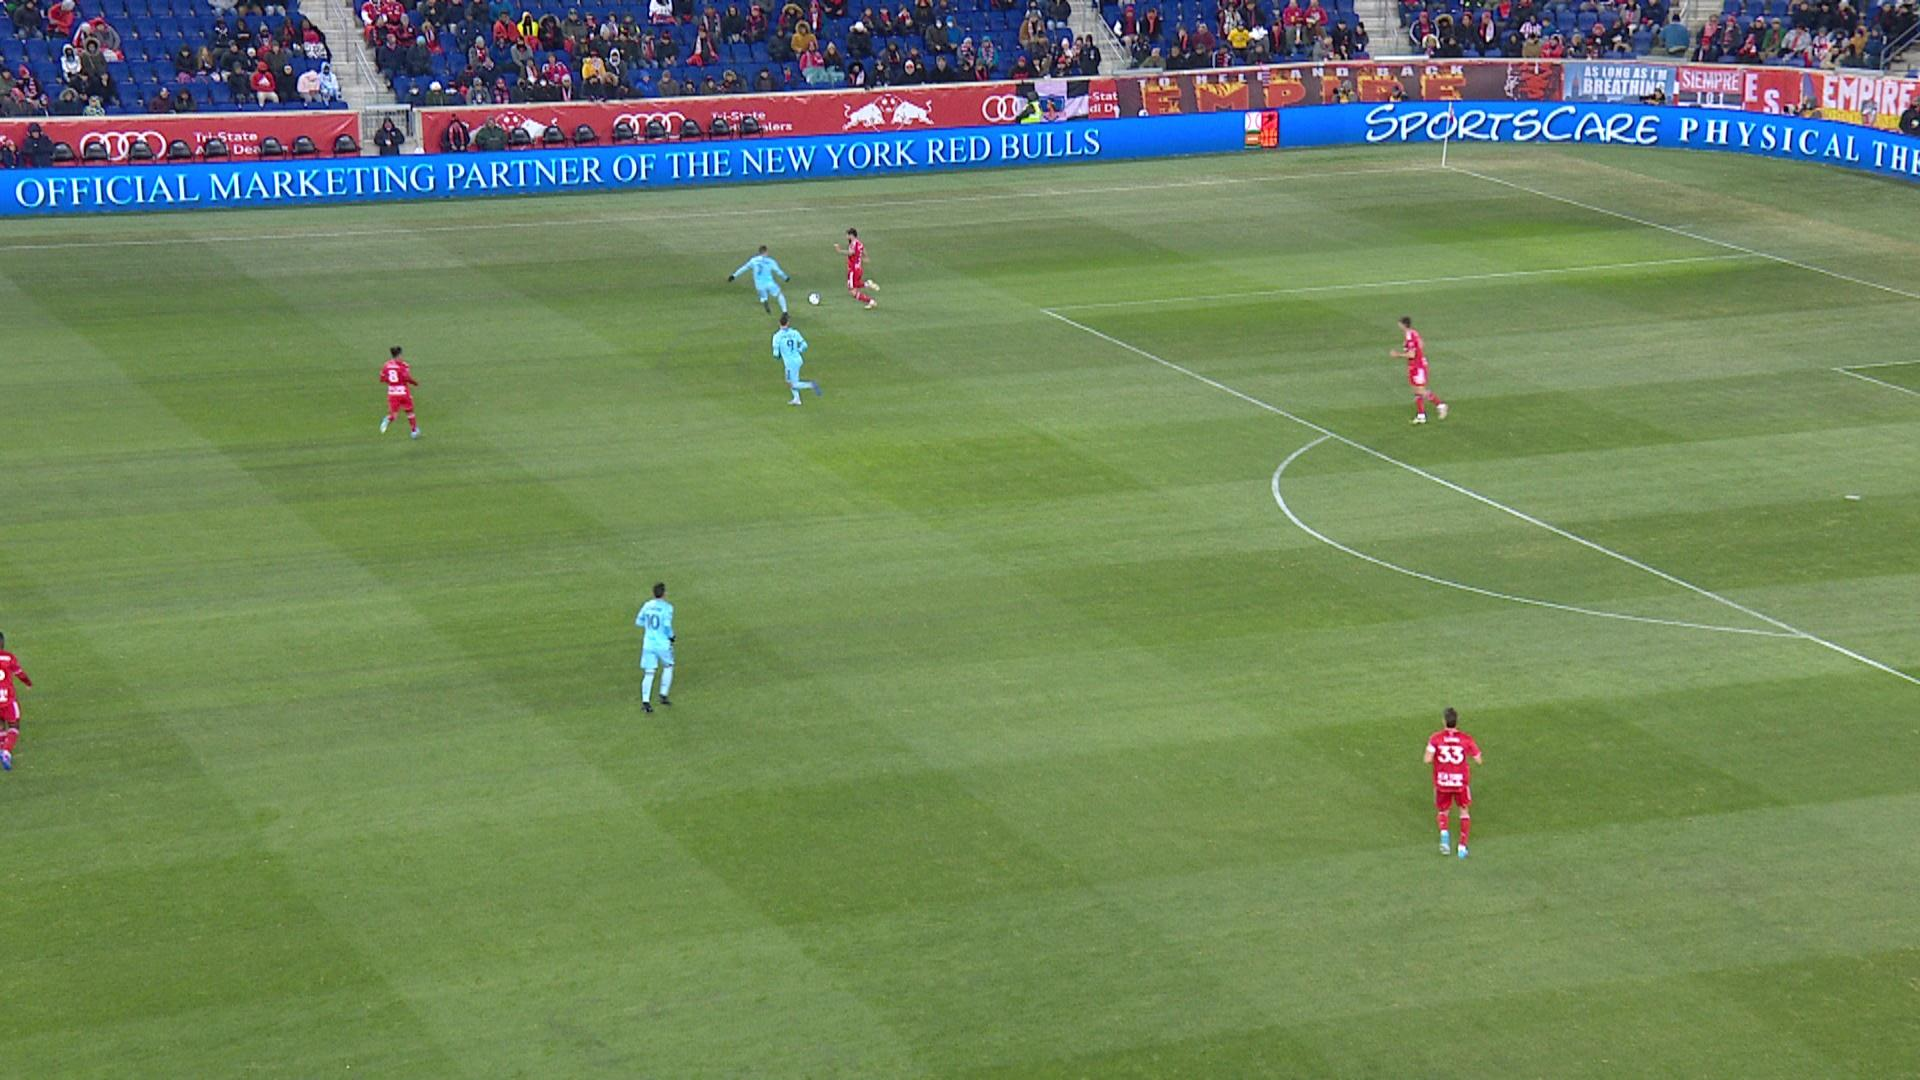football: (809, 292, 821, 305)
